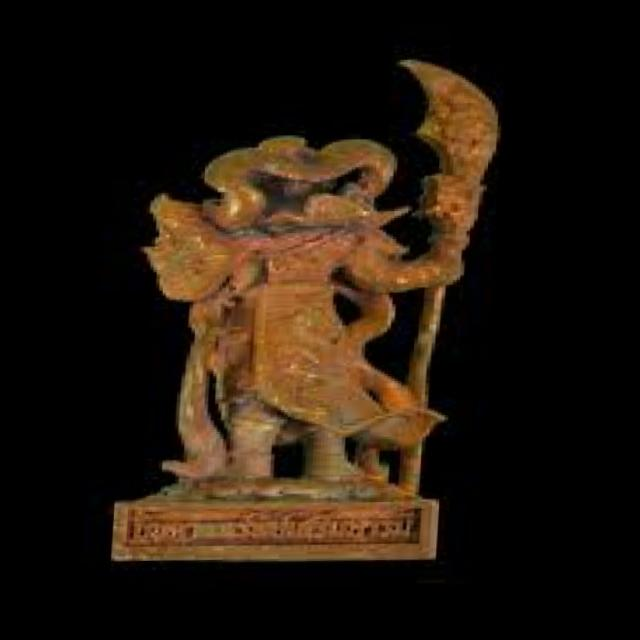Guan Yu: (125, 120, 490, 430)
